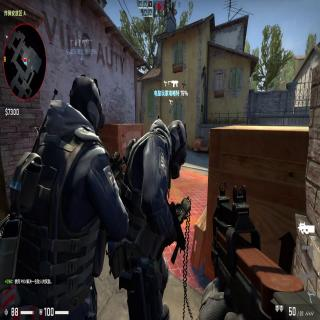CT-Head: (70, 73, 106, 139), (164, 120, 187, 178)
